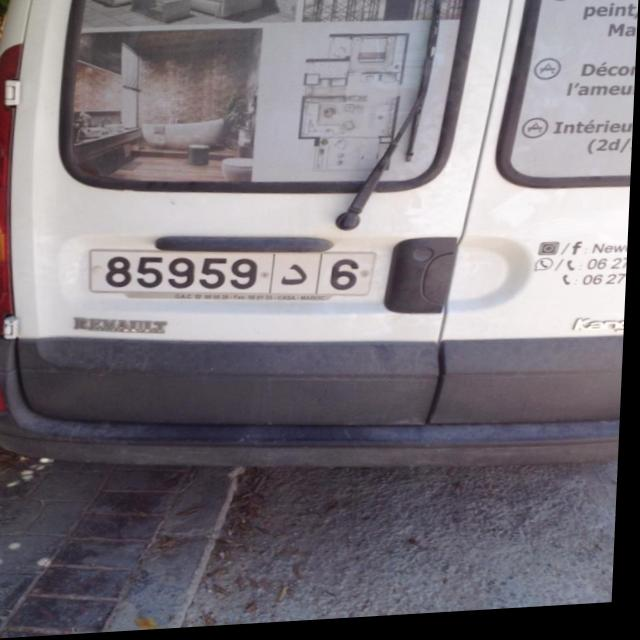License-Plate: (93, 251, 377, 300)
